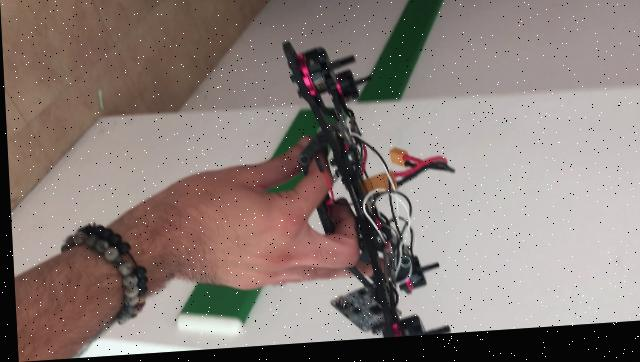drone: (269, 36, 464, 348)
